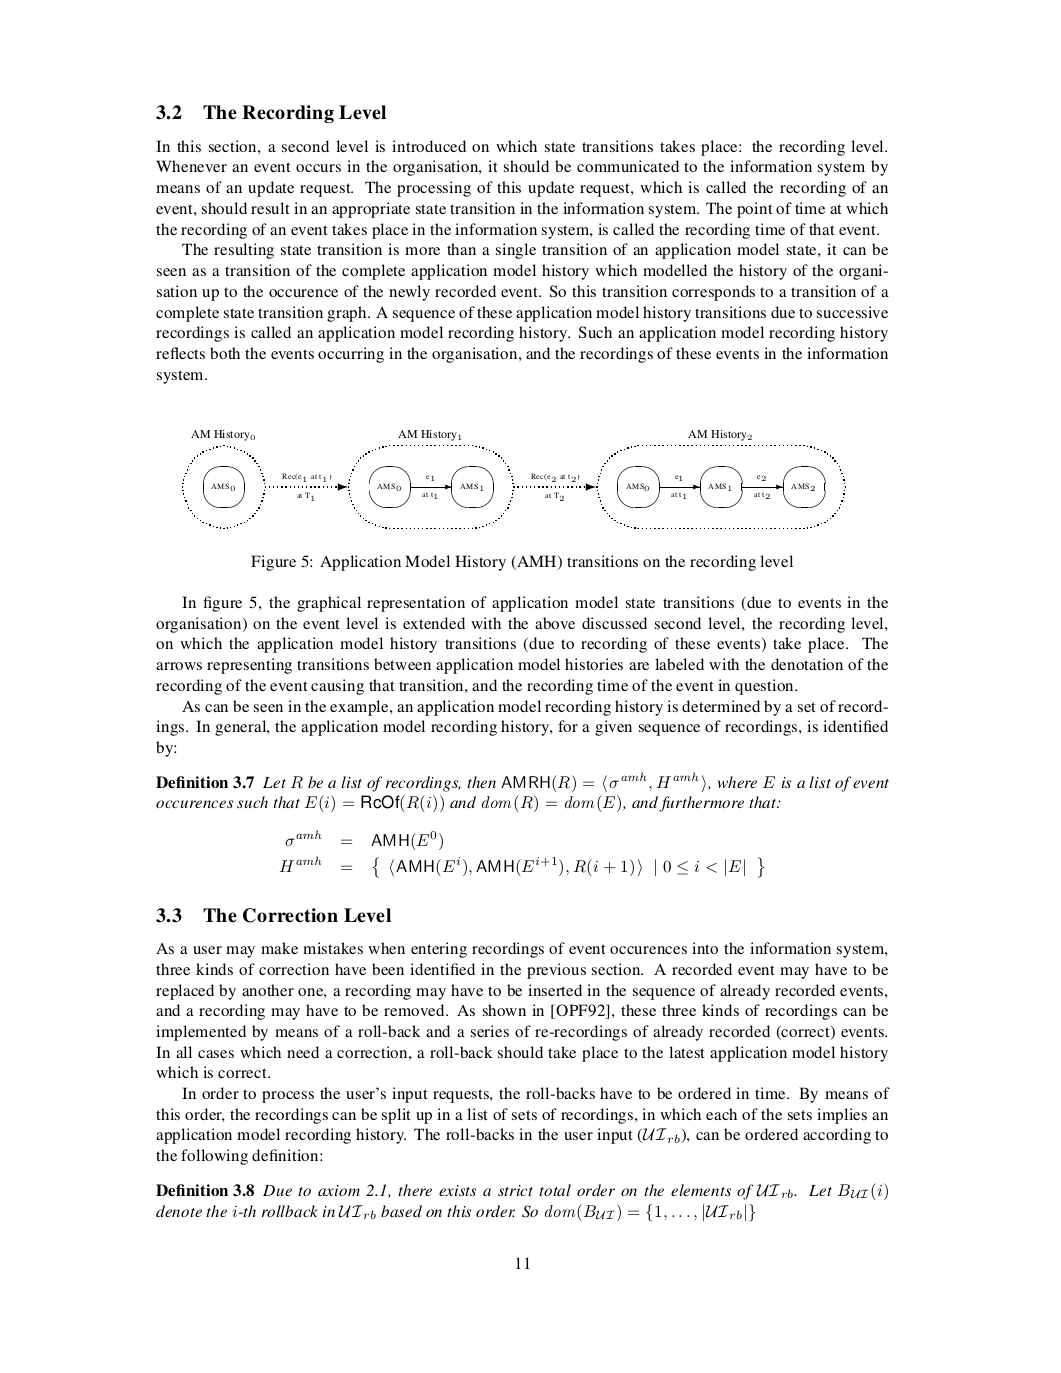figure: (182, 429, 845, 528)
formula: (279, 855, 763, 878), (285, 829, 442, 851)
